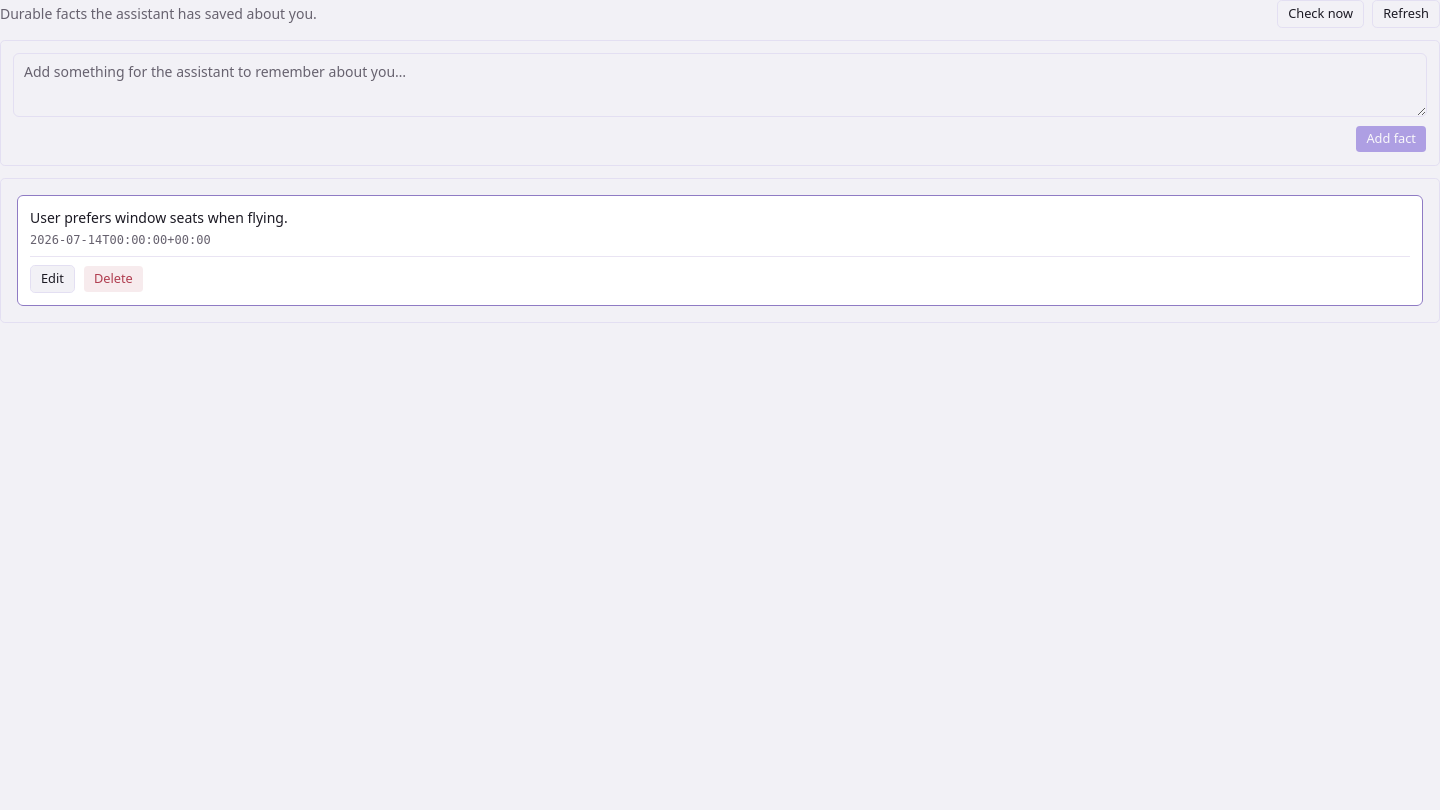
it: MemoryPanel › shows an error and keeps the fact if deletion fails
Expected: the text "User prefers window seats when flying." is shown, [30,208,288,227]
Click the button "Delete": (113, 279) [83,265,144,293]
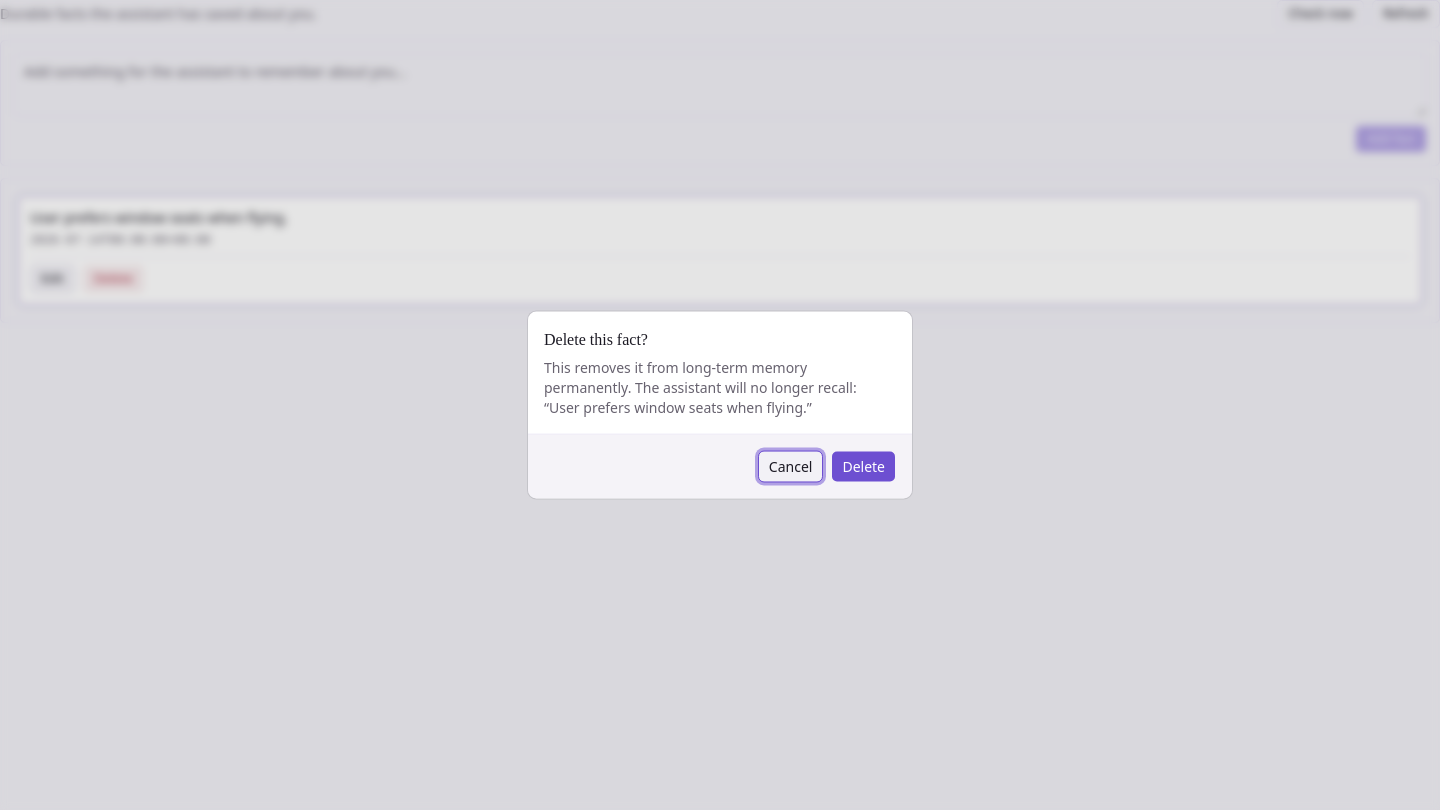
Click the button "Delete": (864, 466) [831,450,896,482]
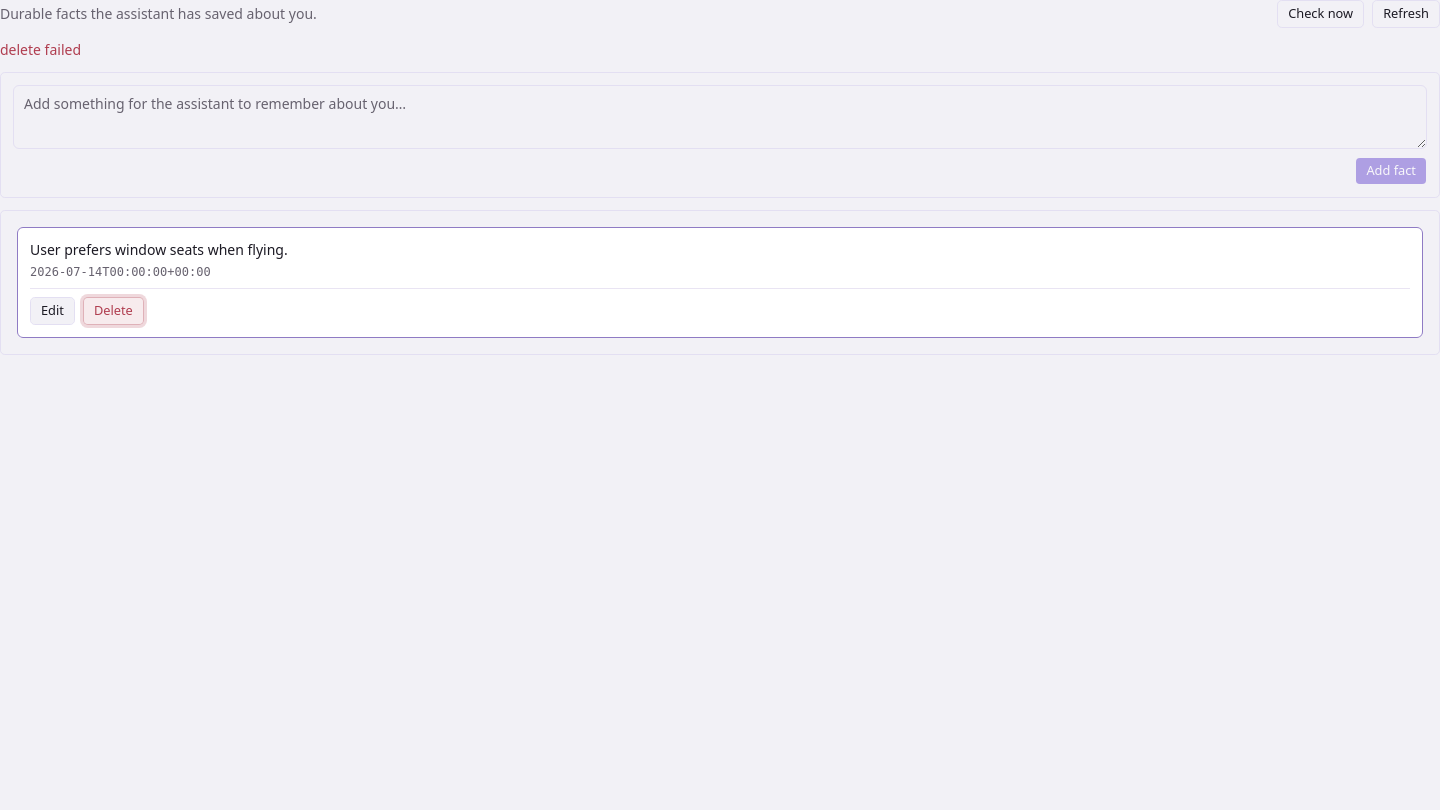
Expected: the text "User prefers window seats when flying." is shown, [30,240,288,259]
Expected: the text "delete failed" is shown, [0,40,81,59]
